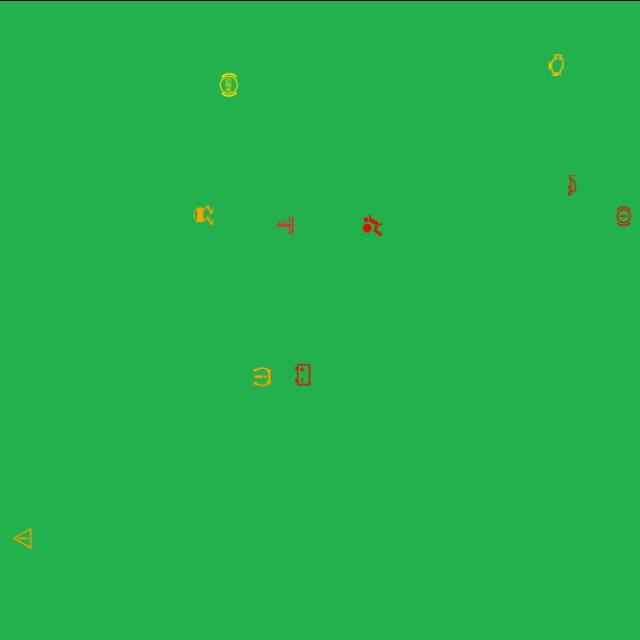Anti Lock Braking System: (216, 71, 242, 97)
Braking System Issue: (611, 202, 637, 228)
Charging System Issue: (290, 361, 316, 386)
Check Engine: (543, 51, 569, 77)
Electronic Stability Problem -ESP-: (191, 201, 217, 227)
Engine Overheating Warning Light: (272, 212, 298, 238)
Low Engine Oil Warning Light: (558, 171, 584, 197)
Low Tire Pressure Warning Light: (249, 363, 275, 389)
Master warning light: (10, 524, 36, 550)
SRS-Airbag: (360, 212, 386, 238)
